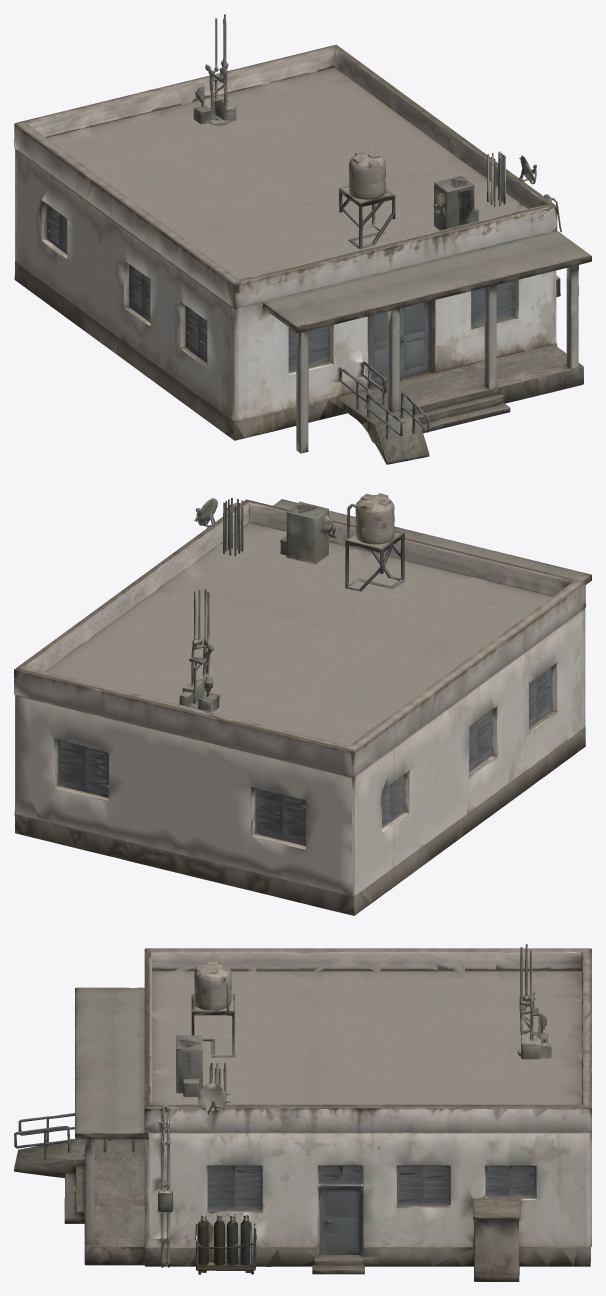
File: clinic.glb
3 renders of one model, top to bottom at view 1: azimuth 30°, elevation 25°; view 2: azimuth 150°, elevation 25°; view 3: azimuth 270°, elevation 25°, orthographic. The views are drawn at different scales.
Visible parts, largest first — view 1: wall, roof, trim, glass, metal; view 2: wall, roof, trim, metal, glass; view 3: wall, roof, trim, glass, metal.
Boxes of the visible parts, x1,y1,x2,y2 form: wall: (14,14,591,460); roof: (46,67,527,392); trim: (14,44,591,462); glass: (15,73,435,464); metal: (195,14,536,222); wall: (14,495,587,915); roof: (45,522,552,745); trim: (14,499,590,849); metal: (190,493,403,682); glass: (15,574,591,915); wall: (14,944,591,1281); roof: (152,971,582,1104); trim: (14,948,591,1269); glass: (40,1004,590,1272); metal: (176,944,546,1101).
Size of the model in its own units: 10.2 by 6.68 by 14.12.
Materials: 1 (1 with a texture image).
